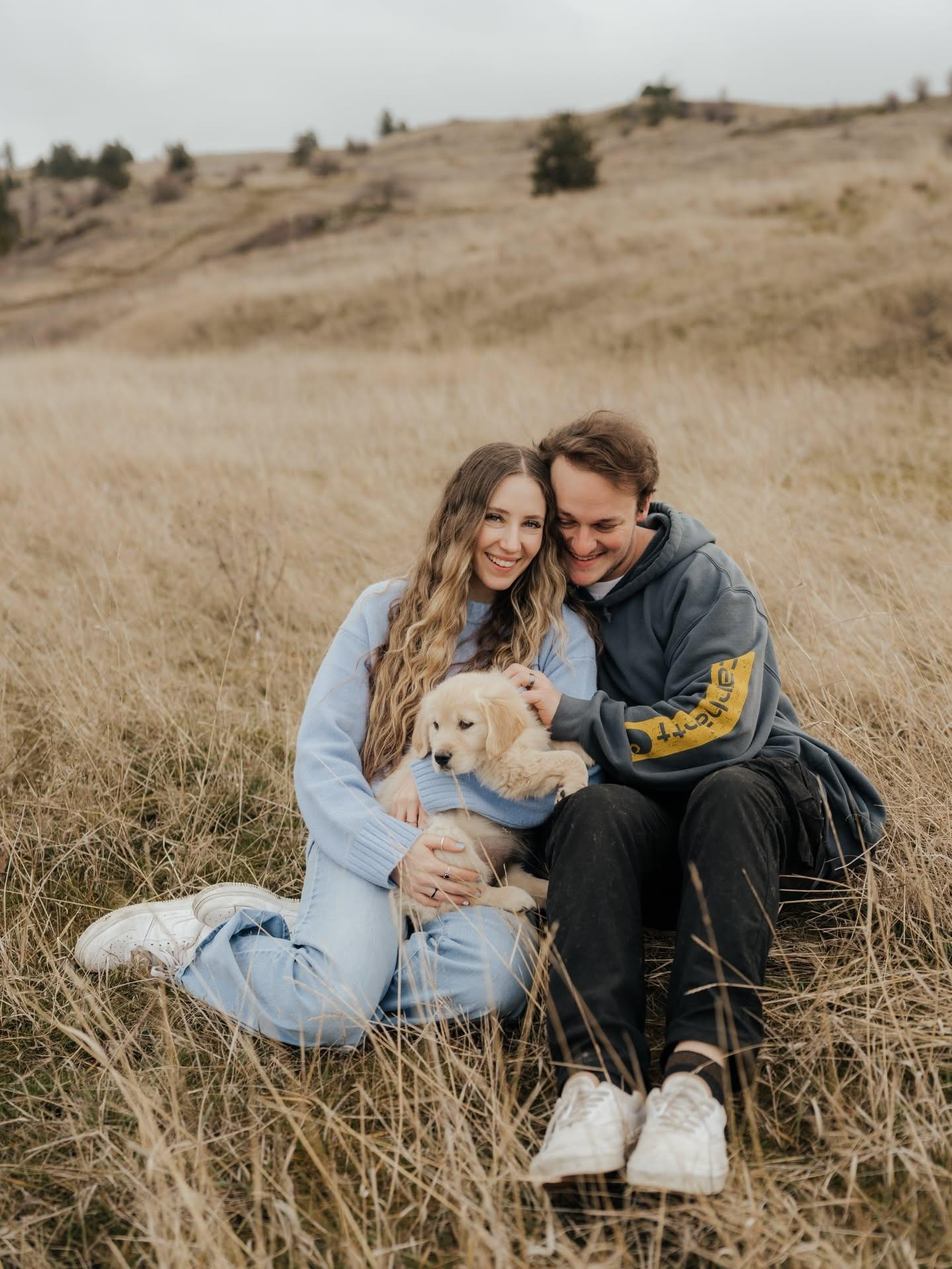non-dog: (73, 442, 600, 1050), (504, 409, 885, 1199)
puppy-dog: (376, 667, 594, 931)
